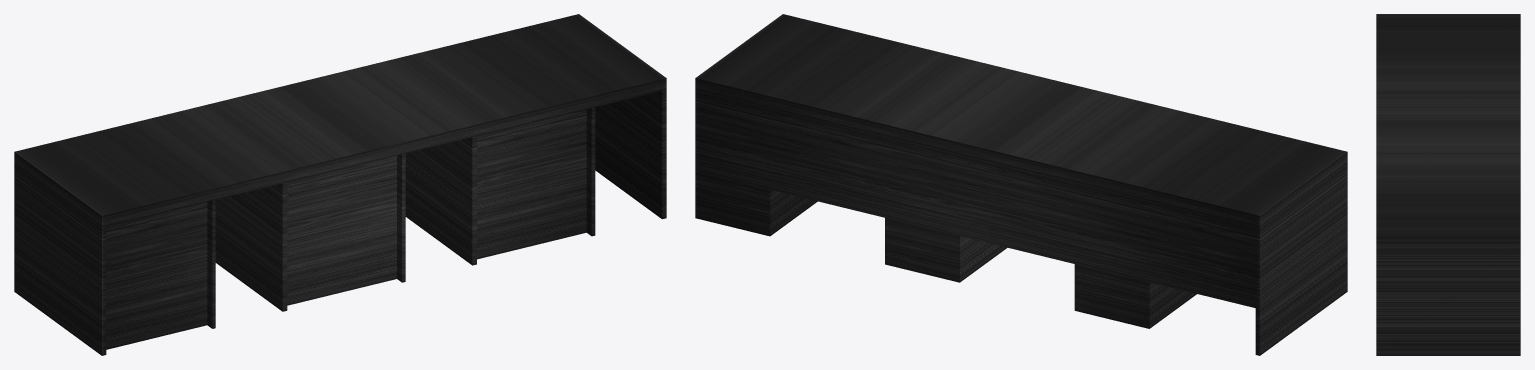
Rendered from table1.fbx.
The picture shows the model from 3 angles, left to right: view 1: azimuth 30°, elevation 25°; view 2: azimuth 150°, elevation 25°; view 3: azimuth 270°, elevation 25°; orthographic projection. The views are drawn at different scales.
Parts seen in each view (by area): view 1: ASCII; view 2: ASCII; view 3: ASCII.
Boxes of the visible parts, left/top/right/bottom form: ASCII: left=14, top=14, right=666, bottom=355; ASCII: left=695, top=14, right=1347, bottom=355; ASCII: left=1376, top=14, right=1520, bottom=355.
Bounding box in the file's own units: 996 × 236 × 268.
1 material, 1 textured.
